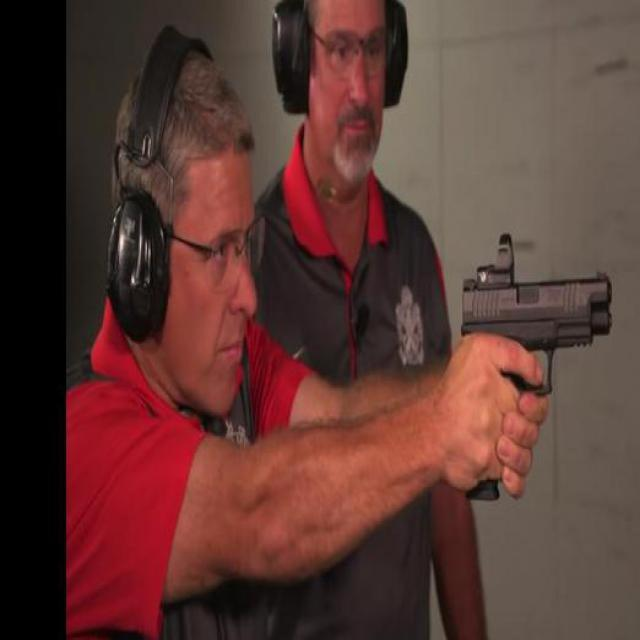weapon: (456, 230, 614, 500)
